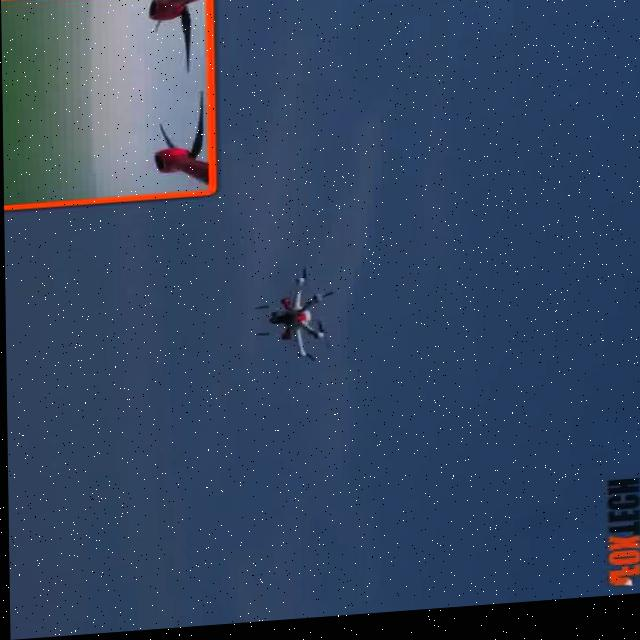drone: (240, 257, 348, 379)
